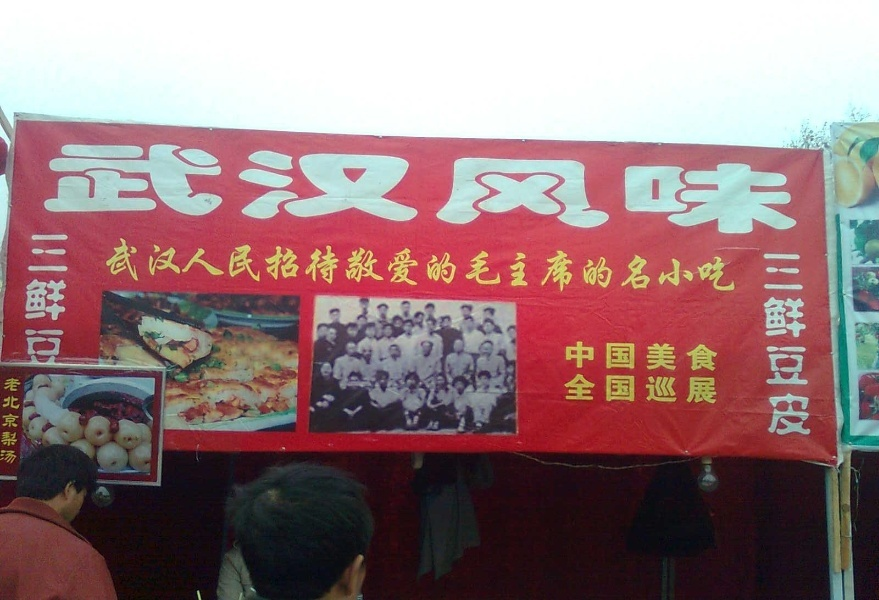text: (769, 249, 784, 437), (785, 249, 800, 437), (33, 225, 48, 366), (49, 225, 64, 366), (801, 249, 810, 437), (49, 139, 64, 237), (65, 139, 80, 237), (81, 139, 96, 237), (97, 139, 112, 237), (113, 139, 128, 237), (129, 139, 144, 237), (145, 139, 160, 237), (161, 139, 176, 237), (177, 139, 192, 237), (193, 139, 208, 237), (209, 139, 224, 237), (225, 139, 240, 237), (241, 139, 256, 237), (257, 139, 272, 237), (273, 139, 288, 237), (289, 139, 304, 237), (305, 139, 320, 237), (321, 139, 336, 237), (337, 139, 352, 237), (353, 139, 368, 237), (369, 139, 384, 237), (385, 139, 400, 237), (401, 139, 416, 237), (417, 139, 432, 237), (433, 139, 448, 237), (449, 139, 464, 237), (465, 139, 480, 237), (481, 139, 496, 237), (497, 139, 512, 237), (513, 139, 528, 237), (529, 139, 544, 237), (545, 139, 560, 237), (561, 139, 576, 237), (577, 139, 592, 237), (593, 139, 608, 237), (609, 139, 624, 237), (625, 139, 640, 237), (641, 139, 656, 237), (657, 139, 672, 237), (673, 139, 688, 237), (689, 139, 704, 237), (705, 139, 720, 237), (721, 139, 736, 237), (737, 139, 752, 237), (753, 139, 768, 237), (769, 139, 784, 237), (785, 139, 799, 237), (761, 249, 768, 437), (65, 225, 72, 366), (5, 378, 16, 463), (113, 240, 128, 298), (129, 240, 144, 298), (145, 240, 160, 298), (161, 240, 176, 298), (177, 240, 192, 298), (193, 240, 208, 298), (209, 240, 224, 298), (225, 240, 240, 298), (241, 240, 256, 298), (257, 240, 272, 298), (273, 240, 288, 298), (289, 240, 304, 298), (305, 240, 320, 298), (321, 240, 336, 298), (337, 240, 352, 298), (353, 240, 368, 298), (369, 240, 384, 298), (385, 240, 400, 298), (401, 240, 416, 298), (417, 240, 432, 298), (433, 240, 448, 298), (449, 240, 464, 298), (465, 240, 480, 298), (481, 240, 496, 298), (497, 240, 512, 298), (513, 240, 528, 298), (529, 240, 544, 298), (545, 240, 560, 298), (561, 240, 576, 298), (577, 240, 592, 298), (593, 240, 608, 298), (609, 240, 624, 298), (625, 240, 640, 298), (641, 240, 656, 298), (657, 240, 672, 298), (673, 240, 688, 298), (689, 240, 704, 298), (705, 240, 720, 298), (721, 240, 736, 298), (27, 225, 32, 366), (577, 340, 592, 374), (593, 340, 608, 374), (609, 340, 624, 374), (625, 340, 640, 374), (641, 340, 656, 374), (657, 340, 672, 374), (673, 340, 688, 374), (689, 340, 704, 374), (705, 340, 720, 374), (577, 374, 592, 405), (593, 374, 608, 405), (609, 374, 624, 405), (625, 374, 640, 405), (641, 374, 656, 405), (657, 374, 672, 405), (673, 374, 688, 405), (689, 374, 704, 405), (705, 374, 720, 405), (104, 240, 112, 298), (565, 340, 576, 374), (565, 374, 576, 405), (17, 378, 21, 463), (47, 139, 48, 237)
